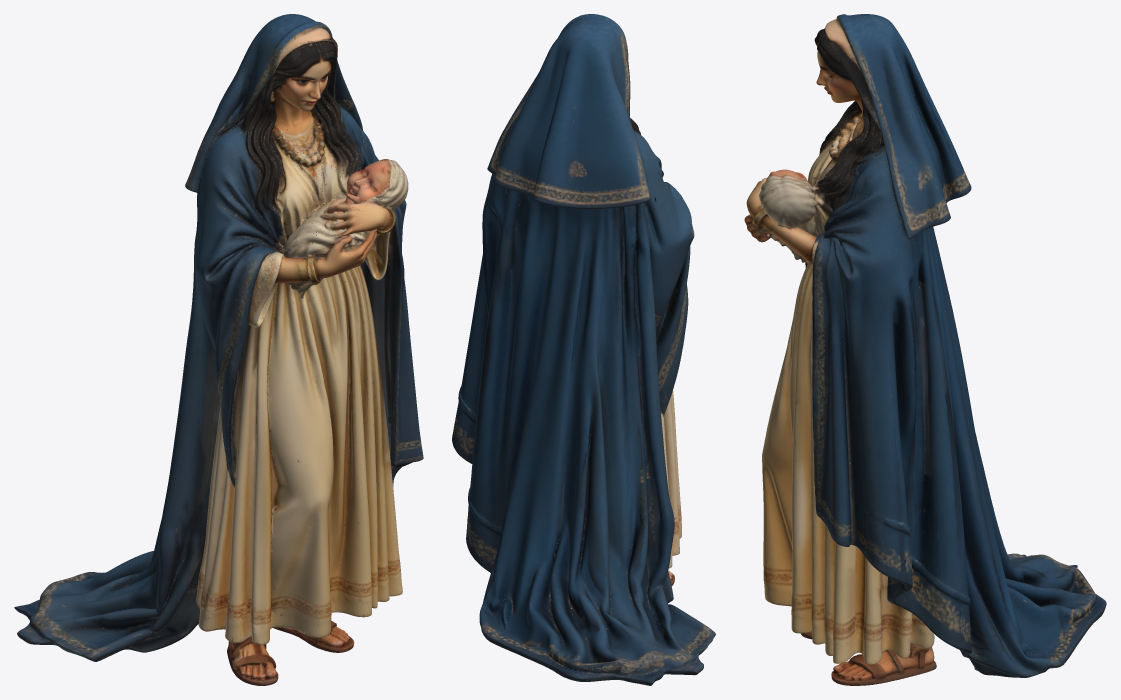
The model's file is Meshy_AI_Rachel_0209042616_texture.glb.
The picture shows the model from 3 angles, left to right: view 1: azimuth 30°, elevation 25°; view 2: azimuth 150°, elevation 25°; view 3: azimuth 270°, elevation 25°; orthographic projection. The views are drawn at different scales.
Bounding box in the file's own units: 1.11 × 2 × 1.02.
Materials: 1 (1 with a texture image).
